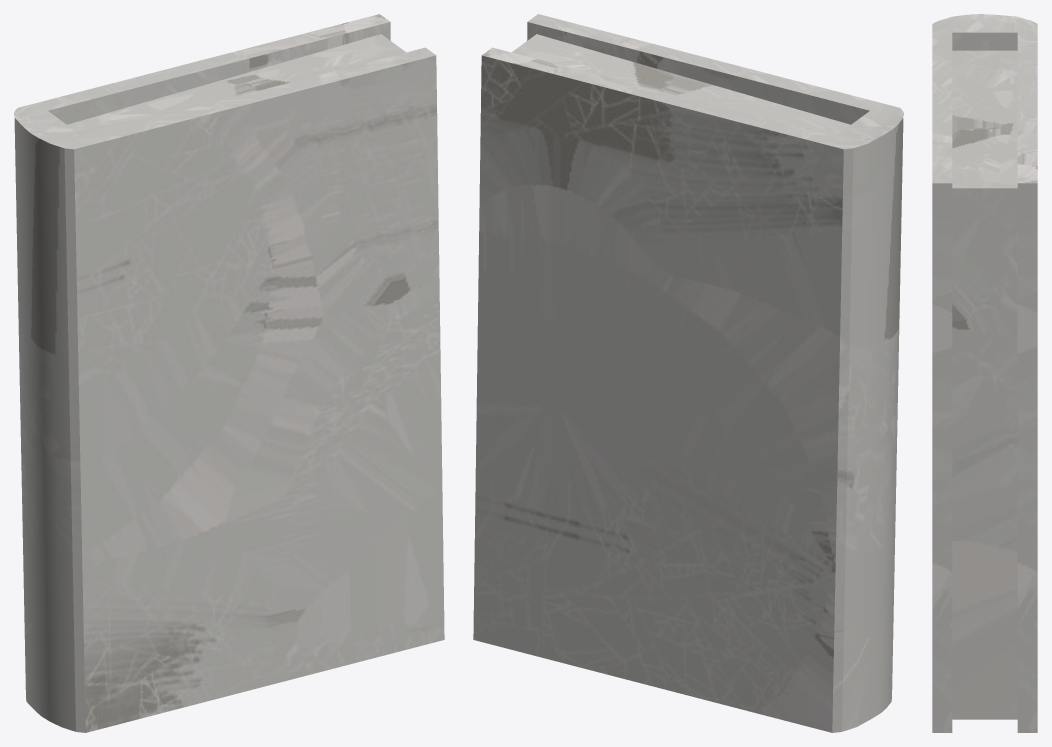
Rendered from bookcovered.fbx.
3 views of the same model, side by side, from view 1: azimuth 30°, elevation 25°; view 2: azimuth 150°, elevation 25°; view 3: azimuth 270°, elevation 25° (orthographic). The views are drawn at different scales.
Parts seen in each view (by area): view 1: defaultMaterial.006; view 2: defaultMaterial.006; view 3: defaultMaterial.006.
Part boxes in pixels (bbox=[...]): defaultMaterial.006: bbox=[14, 14, 444, 732]; defaultMaterial.006: bbox=[473, 14, 903, 732]; defaultMaterial.006: bbox=[932, 14, 1037, 732].
Size of the model in its own units: 22.62 by 32.94 by 5.71.
